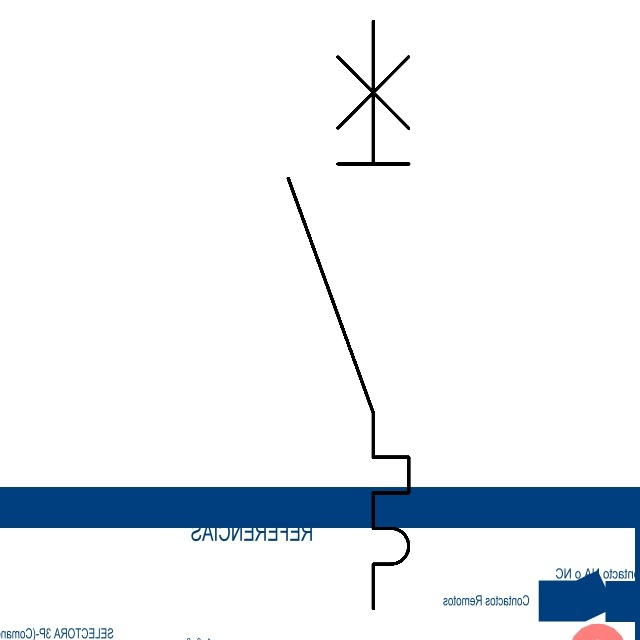interruptor_termomagnetico: (273, 6, 424, 624)
